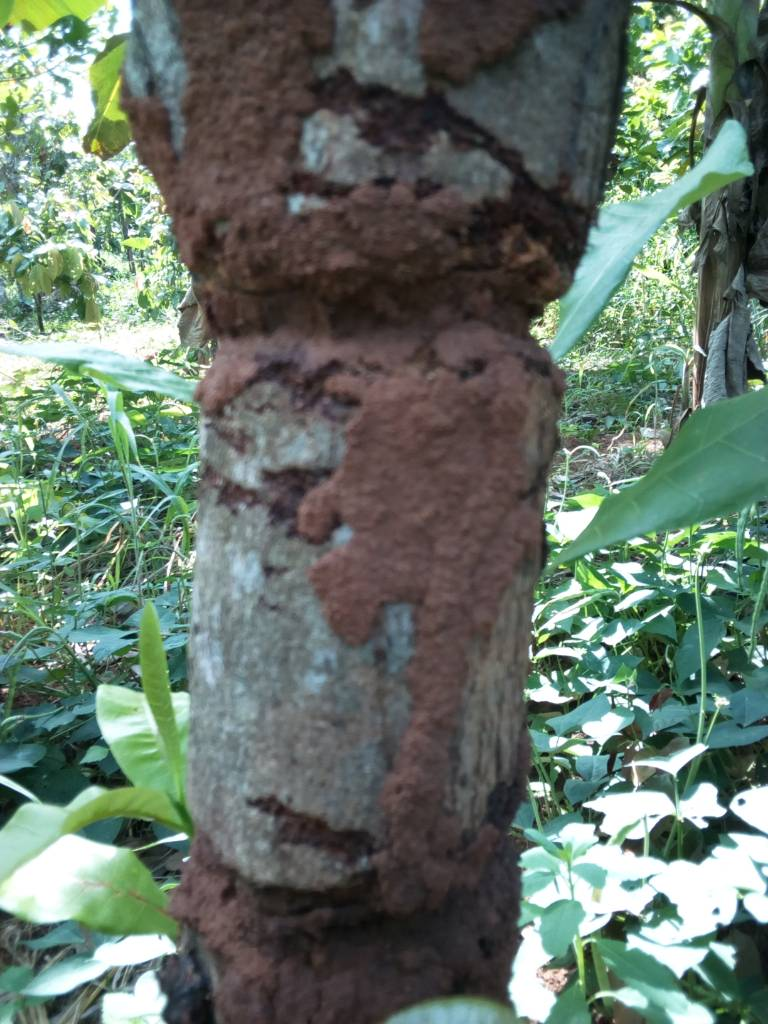Termites: (183, 14, 546, 1021)
